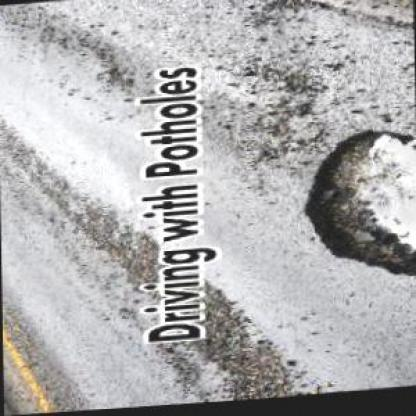pothole: (296, 130, 416, 292)
